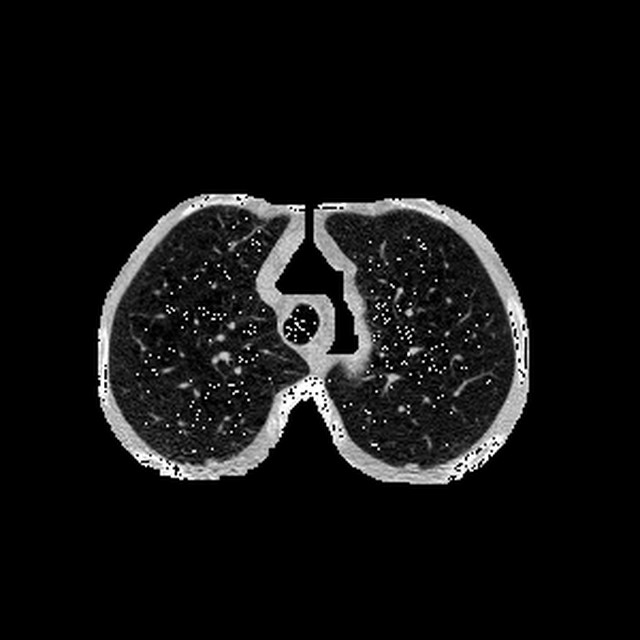PN: (405, 461, 414, 469)
